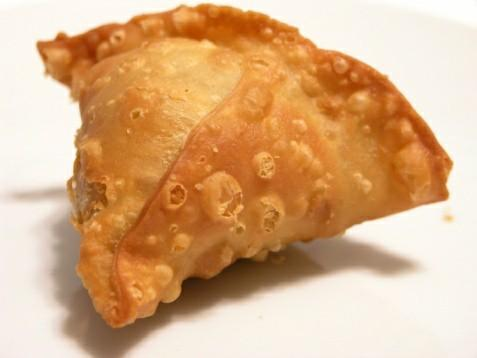Samosa: (38, 1, 451, 329)
